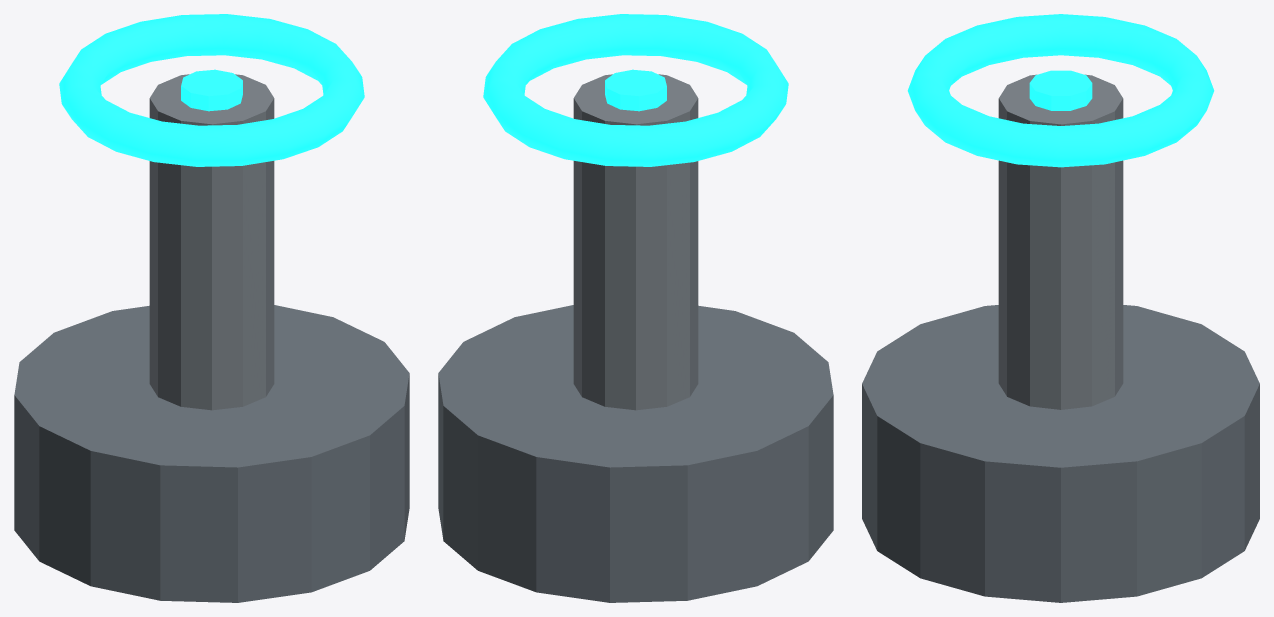
Rendered from PROP_ShieldGenerator_v01.glb.
3 views of the same model, side by side, from view 1: azimuth 30°, elevation 25°; view 2: azimuth 150°, elevation 25°; view 3: azimuth 270°, elevation 25° (orthographic).
Visible parts, largest first — view 1: MESH_GeneratorBase, MESH_EnergyRing; view 2: MESH_GeneratorBase, MESH_EnergyRing; view 3: MESH_GeneratorBase, MESH_EnergyRing.
Part boxes in pixels (x1,y1,x2,y2): MESH_GeneratorBase: (14, 69, 409, 602); MESH_EnergyRing: (59, 14, 364, 166); MESH_GeneratorBase: (438, 69, 833, 602); MESH_EnergyRing: (483, 14, 788, 166); MESH_GeneratorBase: (862, 70, 1259, 602); MESH_EnergyRing: (907, 14, 1214, 167).
Size of the model in its own units: 0.48 by 0.5917 by 0.48.
